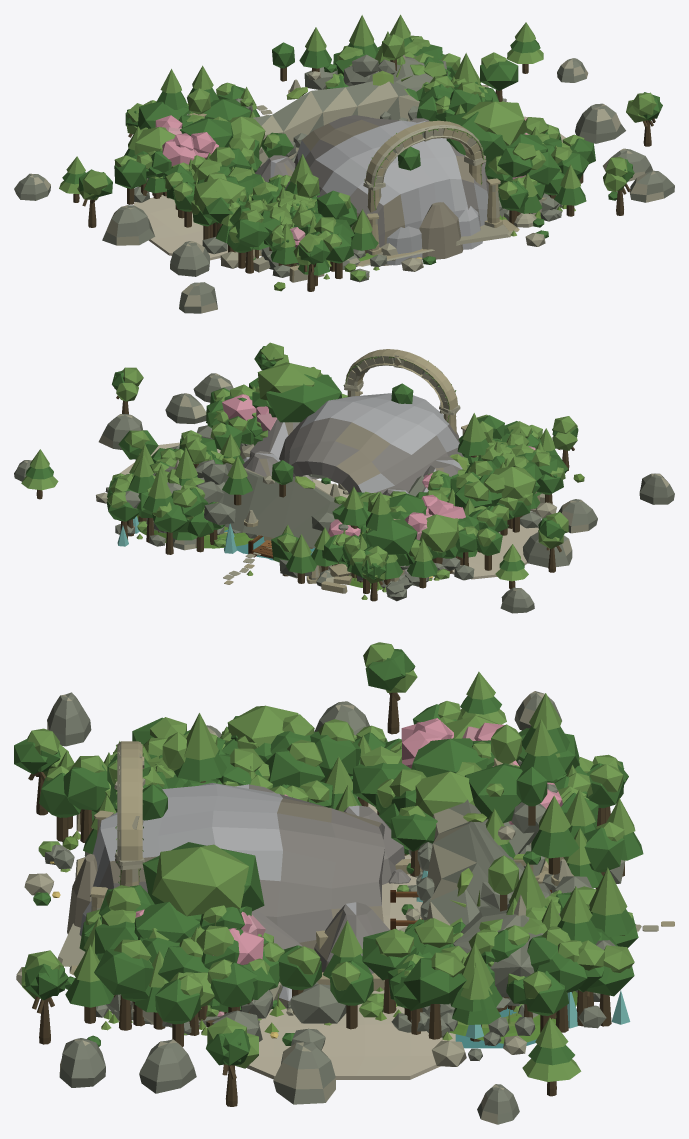
The model's file is verdant_valley_props.fbx.
3 views of the same model, one above another, from view 1: azimuth 30°, elevation 25°; view 2: azimuth 150°, elevation 25°; view 3: azimuth 270°, elevation 25° (orthographic). The views are drawn at different scales.
Visible parts, largest first — view 1: prop_cap_cave_mouth_scenery, prop_boss_sanctuary_scenery, prop_path_cliff_passage_scenery, prop_shaded_grove_ambient, prop_path_cliff_passage_ambient, prop_boss_sanctuary_ambient, prop_fern_hollow_ambient, prop_ancient_oak_ambient, prop_windward_ridge_gate_ambient, prop_high_ledge_gate_ambient, prop_path_cliff_passage_surface, prop_cliff_overlook_gate_ambient (+22 smaller); view 2: prop_cap_cave_mouth_scenery, prop_boss_sanctuary_scenery, prop_path_cliff_passage_scenery, prop_boss_sanctuary_ambient, prop_ancient_oak_ambient, prop_path_cliff_passage_ambient, prop_windward_ridge_gate_ambient, prop_fern_hollow_ambient, prop_crystal_spring_gate_ambient, prop_shaded_grove_ambient, prop_blossom_terrace_ambient, prop_wetland_pools_ambient (+22 smaller); view 3: prop_cap_cave_mouth_scenery, prop_boss_sanctuary_scenery, prop_shaded_grove_ambient, prop_path_cliff_passage_ambient, prop_boss_sanctuary_ambient, prop_fern_hollow_ambient, prop_ancient_oak_ambient, prop_path_cliff_passage_scenery, prop_path_cliff_passage_surface, prop_windward_ridge_gate_ambient, prop_wetland_pools_ambient, prop_cliff_overlook_gate_ambient (+24 smaller).
Boxes of the visible parts, x1,y1,x2,y2 form: prop_cap_cave_mouth_scenery: [255, 115, 498, 265]; prop_boss_sanctuary_scenery: [14, 58, 674, 313]; prop_path_cliff_passage_scenery: [198, 54, 419, 166]; prop_shaded_grove_ambient: [137, 99, 562, 263]; prop_path_cliff_passage_ambient: [178, 27, 536, 260]; prop_boss_sanctuary_ambient: [59, 22, 662, 291]; prop_fern_hollow_ambient: [173, 41, 481, 231]; prop_ancient_oak_ambient: [215, 61, 527, 252]; prop_windward_ridge_gate_ambient: [156, 14, 412, 275]; prop_high_ledge_gate_ambient: [114, 53, 443, 223]; prop_path_cliff_passage_surface: [133, 116, 565, 260]; prop_cliff_overlook_gate_ambient: [165, 52, 518, 212]; prop_cap_cave_mouth_scenery: [242, 393, 463, 581]; prop_boss_sanctuary_scenery: [14, 349, 674, 613]; prop_path_cliff_passage_scenery: [193, 443, 476, 548]; prop_boss_sanctuary_ambient: [21, 342, 584, 583]; prop_ancient_oak_ambient: [156, 362, 565, 526]; prop_path_cliff_passage_ambient: [185, 367, 528, 531]; prop_windward_ridge_gate_ambient: [128, 428, 557, 537]; prop_fern_hollow_ambient: [126, 435, 509, 532]; prop_crystal_spring_gate_ambient: [107, 444, 511, 579]; prop_shaded_grove_ambient: [224, 384, 542, 590]; prop_blossom_terrace_ambient: [222, 394, 535, 540]; prop_wetland_pools_ambient: [106, 408, 532, 552]; prop_cap_cave_mouth_scenery: [67, 783, 423, 1027]; prop_boss_sanctuary_scenery: [28, 691, 674, 1124]; prop_shaded_grove_ambient: [39, 728, 579, 1019]; prop_path_cliff_passage_ambient: [91, 713, 579, 1012]; prop_boss_sanctuary_ambient: [14, 642, 628, 1081]; prop_fern_hollow_ambient: [92, 714, 596, 1024]; prop_ancient_oak_ambient: [142, 726, 497, 1020]; prop_path_cliff_passage_scenery: [198, 773, 559, 1025]; prop_path_cliff_passage_surface: [246, 803, 455, 1079]; prop_windward_ridge_gate_ambient: [58, 693, 635, 944]; prop_wetland_pools_ambient: [63, 717, 634, 1017]; prop_cliff_overlook_gate_ambient: [324, 725, 502, 1011].
Bounding box in the file's own units: 343 × 84.88 × 233.
